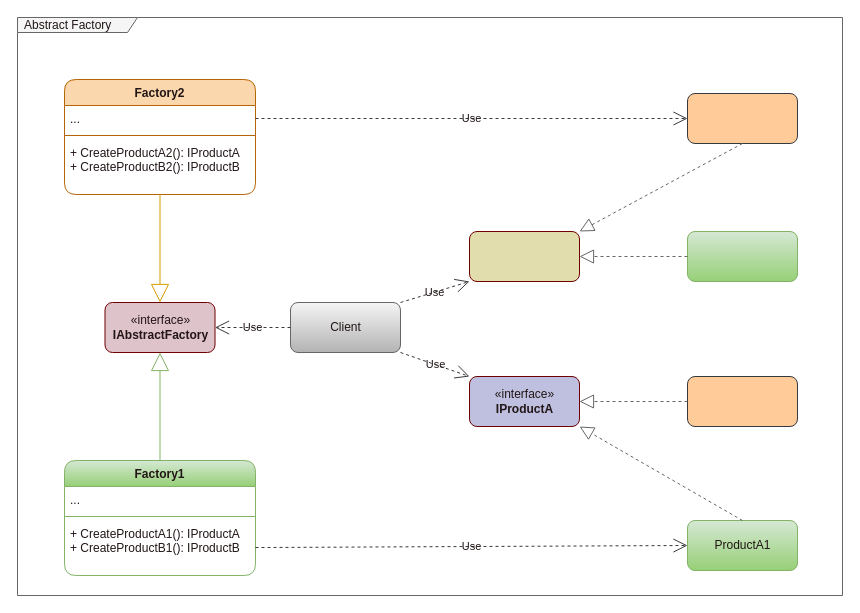
The diagram is 860 pixels wide and 613 high, and some of its shapes have lost their labels. The shapes that lost their labels are listed below. From the top down, each one's centre as x and y in pixels, then its label:
the point at 742,118: ProductB2
the point at 524,256: «interface» IProductB
the point at 742,256: ProductB1
the point at 742,401: ProductA2
